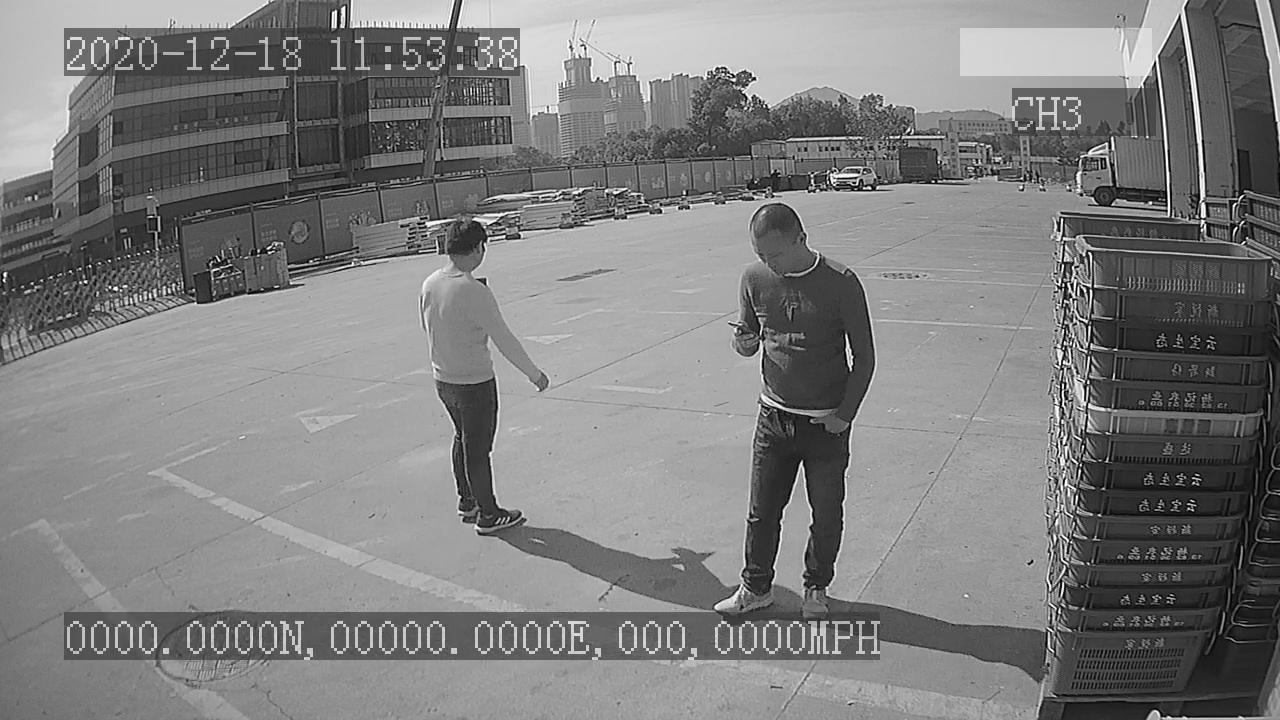person: (408, 215, 556, 544)
